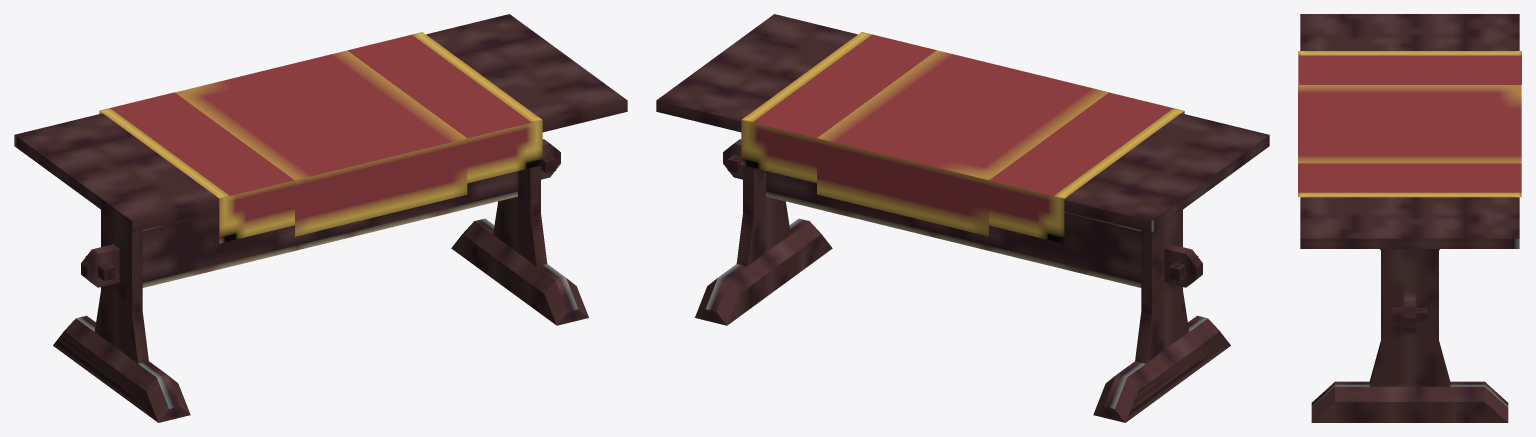
Rendered from OfficeDesk.fbx.
The picture shows the model from 3 angles, left to right: view 1: azimuth 30°, elevation 25°; view 2: azimuth 150°, elevation 25°; view 3: azimuth 270°, elevation 25°; orthographic projection. The views are drawn at different scales.
Parts seen in each view (by area): view 1: Desk.001, CoverMiddle, CoverEnd.001, CoverEnd.002; view 2: Desk.001, CoverMiddle, CoverEnd.001, CoverEnd.002; view 3: Desk.001, CoverMiddle, CoverEnd.002, CoverEnd.001.
Boxes of the visible parts, bbox=[...] form: Desk.001: bbox=[14, 14, 627, 422]; CoverMiddle: bbox=[175, 50, 467, 236]; CoverEnd.001: bbox=[99, 92, 294, 243]; CoverEnd.002: bbox=[347, 32, 542, 183]; Desk.001: bbox=[656, 14, 1269, 422]; CoverMiddle: bbox=[817, 50, 1108, 236]; CoverEnd.001: bbox=[989, 92, 1184, 243]; CoverEnd.002: bbox=[741, 32, 936, 183]; Desk.001: bbox=[1300, 14, 1519, 422]; CoverMiddle: bbox=[1298, 85, 1521, 163]; CoverEnd.002: bbox=[1298, 163, 1521, 197]; CoverEnd.001: bbox=[1298, 51, 1521, 84].
Size of the model in its own units: 2.88 by 1.21 by 1.2.
